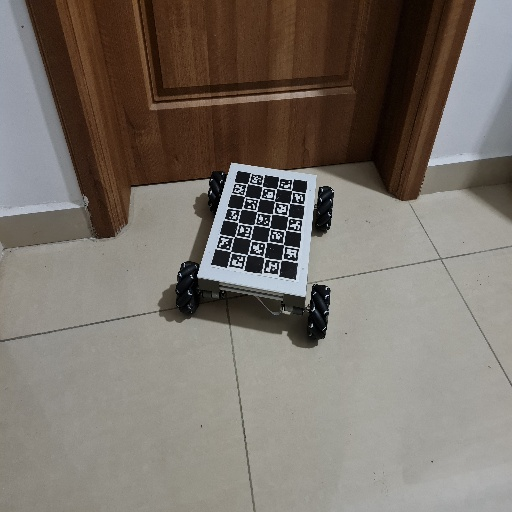Omniwheel: (174, 161, 336, 342)
